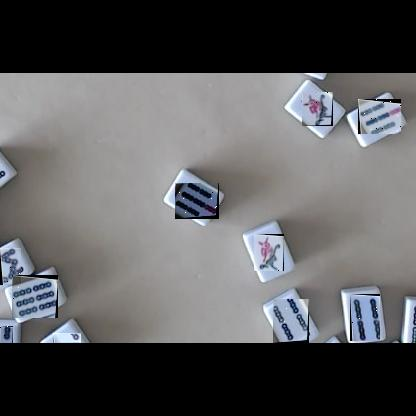1s: (254, 234, 284, 271), (302, 92, 333, 126)
2s: (53, 333, 81, 343)
4s: (273, 299, 309, 343), (350, 294, 380, 341)
5s: (0, 326, 13, 343)
6s: (12, 275, 58, 318)
7s: (175, 183, 219, 219), (358, 99, 401, 134)
8s: (0, 248, 21, 285)
